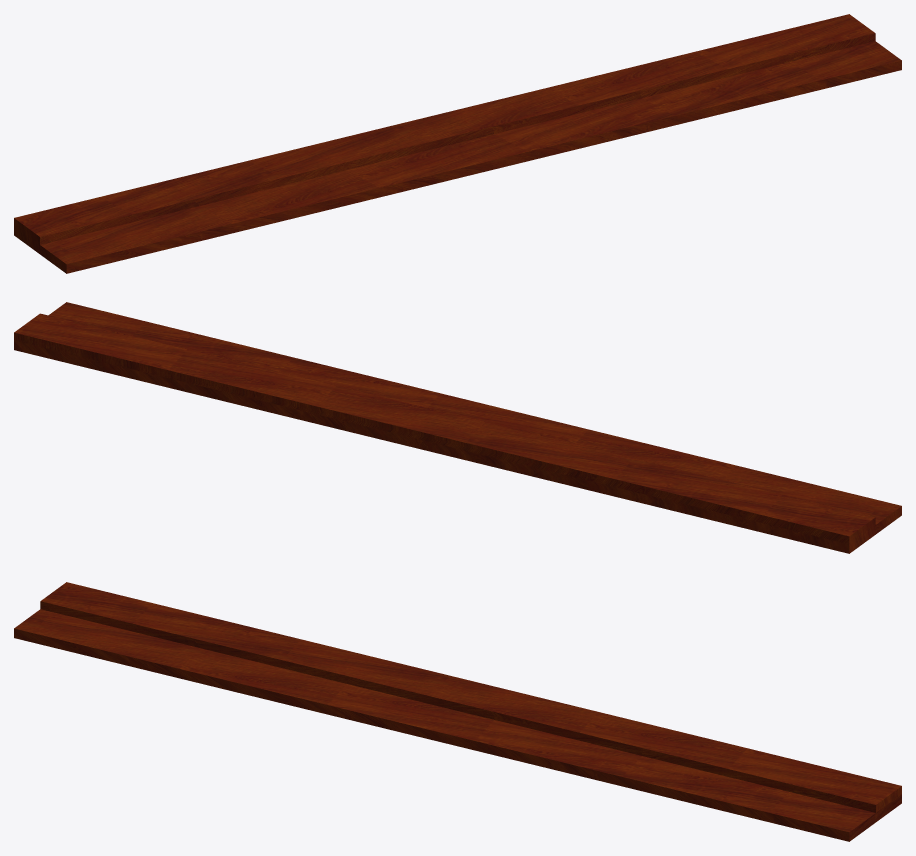
Rendered from mentaoban.fbx.
The picture shows the model from 3 angles, top to bottom: view 1: azimuth 30°, elevation 25°; view 2: azimuth 150°, elevation 25°; view 3: azimuth 330°, elevation 25°; orthographic projection.
Parts seen in each view (by area): view 1: mentan:mentao1:polySurface4; view 2: mentan:mentao1:polySurface4; view 3: mentan:mentao1:polySurface4.
Part boxes in pixels (x1,y1,x2,y2): mentan:mentao1:polySurface4: (14, 14, 901, 273); mentan:mentao1:polySurface4: (14, 302, 901, 553); mentan:mentao1:polySurface4: (14, 582, 901, 841).
Bounding box in the file's own units: 220 × 4.4 × 24.
Materials: 1 (1 with a texture image).
